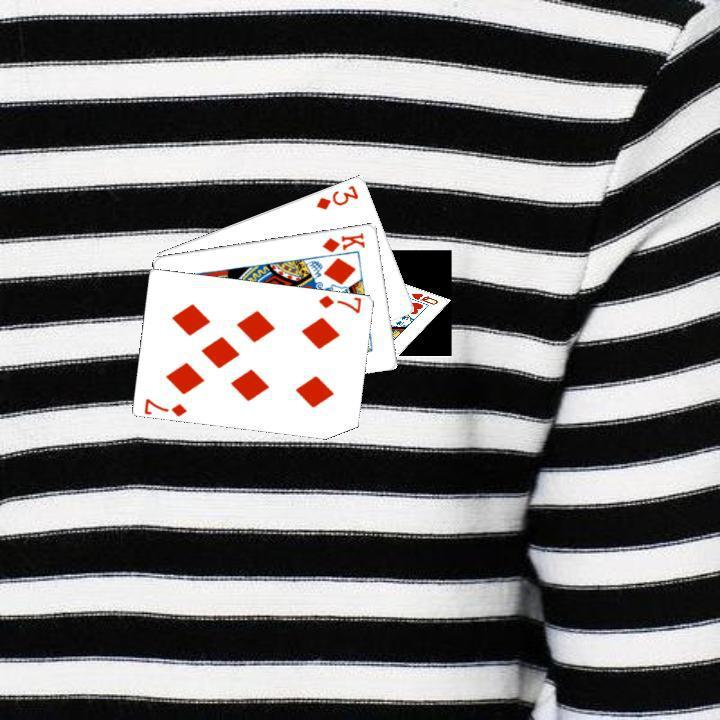3: (312, 180, 361, 211)
7: (314, 291, 363, 315), (140, 394, 189, 417)
K: (318, 228, 367, 254)
